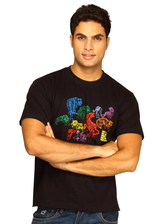clothoes: (18, 66, 145, 214)
